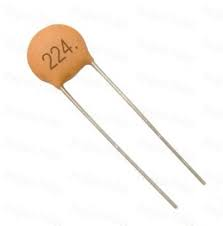ceramic capacitor: (10, 11, 110, 128)
